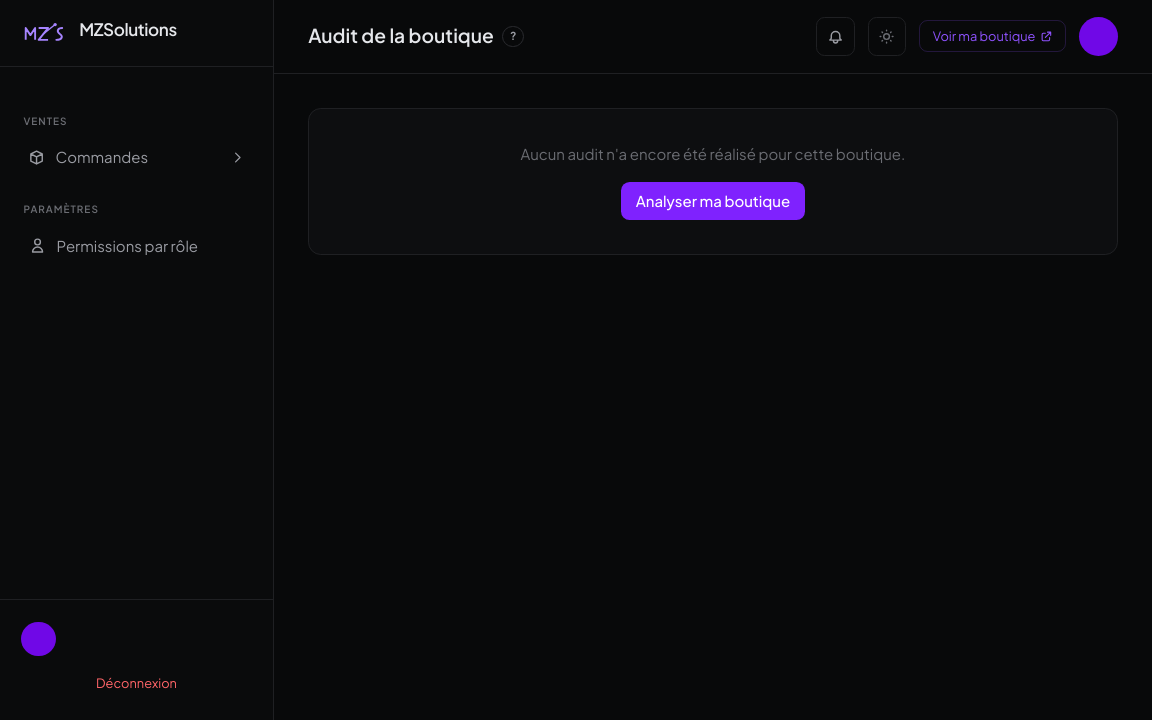
StoreAuditPage › relance un calcul au clic sur "Analyser ma boutique"
This screenshot has width=1152, height=720.
Click the button "Analyser ma boutique". click: [713, 201]
box: [621, 182, 805, 220]
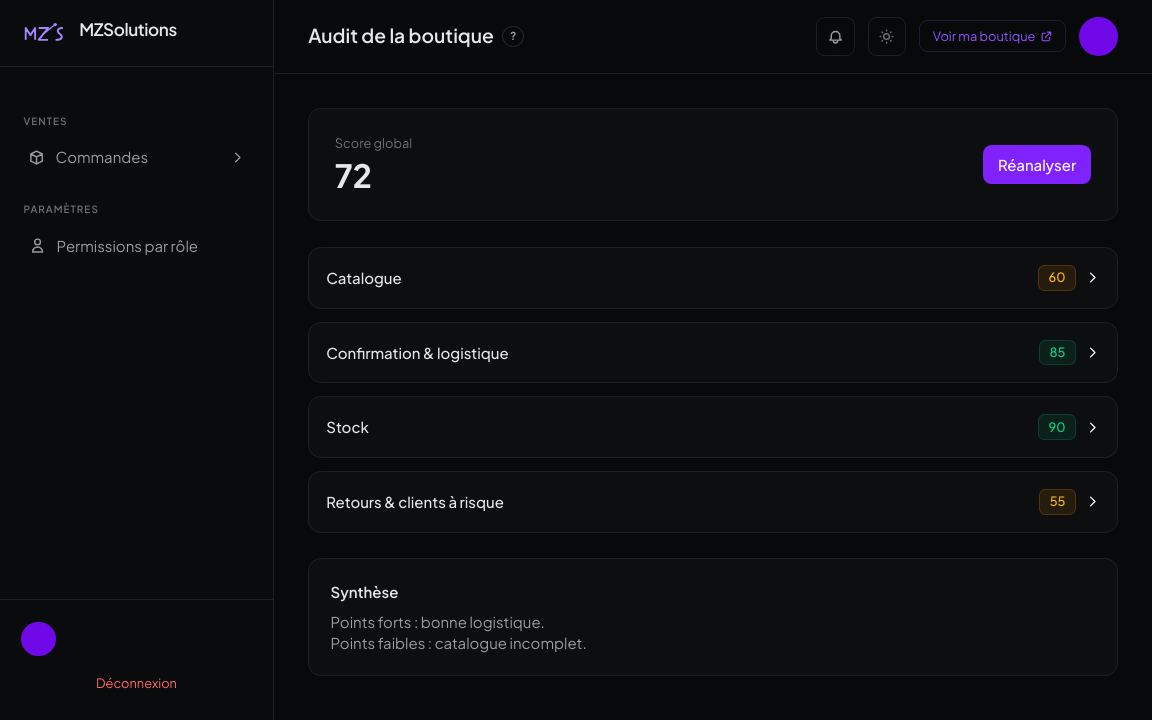
Now the text "72" is shown, box [335, 155, 372, 195]
